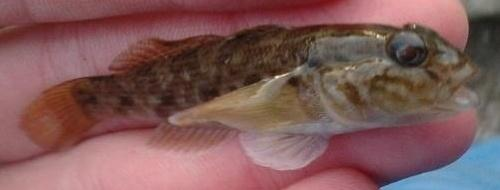Goby: (23, 23, 481, 171)
